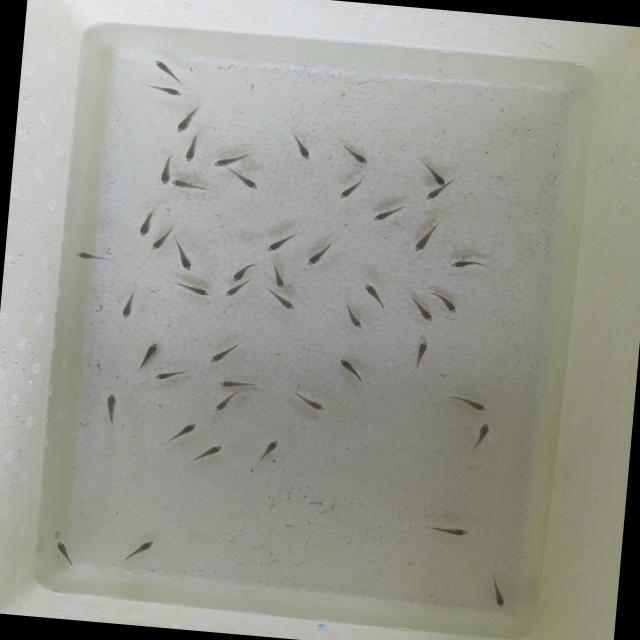fingerling: (287, 390, 331, 414), (130, 204, 158, 238), (337, 140, 369, 166), (204, 342, 237, 367), (100, 389, 122, 426), (304, 239, 332, 267), (115, 292, 141, 322), (264, 231, 293, 257), (227, 258, 258, 282), (67, 247, 110, 264), (334, 356, 362, 382), (426, 522, 471, 538), (488, 576, 508, 612), (336, 177, 364, 202), (413, 223, 438, 251), (432, 288, 458, 314), (408, 298, 434, 324), (420, 160, 447, 185), (175, 104, 199, 132), (268, 262, 292, 290), (150, 60, 180, 82), (422, 182, 452, 204), (170, 178, 211, 194), (124, 540, 151, 564), (254, 439, 278, 466), (369, 204, 401, 224), (222, 280, 248, 304), (168, 422, 196, 444), (138, 340, 160, 368), (153, 224, 175, 252), (450, 394, 484, 412), (361, 282, 386, 306), (410, 338, 430, 368), (210, 393, 235, 416), (265, 289, 293, 309), (224, 170, 255, 188), (172, 243, 192, 270), (342, 302, 362, 328), (214, 154, 248, 169), (195, 443, 223, 461), (156, 154, 172, 185), (447, 259, 485, 272), (181, 136, 199, 163), (290, 137, 310, 161), (178, 285, 212, 299), (468, 427, 487, 452), (54, 542, 74, 564), (220, 379, 256, 391), (155, 370, 186, 380), (163, 87, 186, 100)
